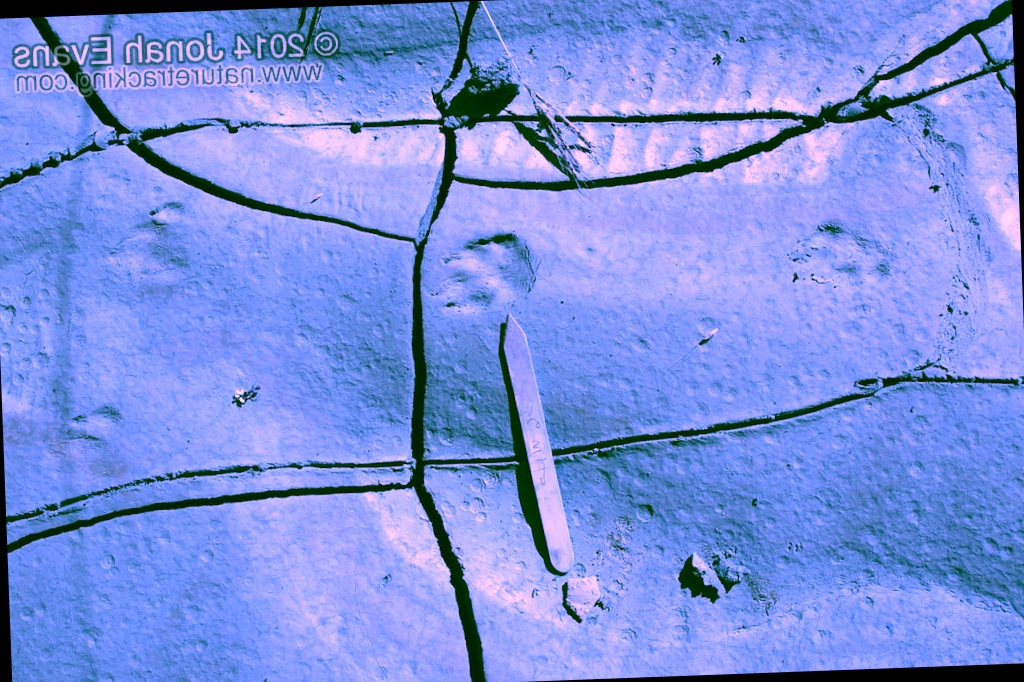lapin: (776, 206, 945, 369), (402, 211, 559, 324), (98, 190, 231, 311)
